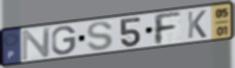5: (118, 16, 143, 49)
F: (151, 11, 183, 46)
G: (51, 25, 78, 56)
K: (186, 9, 208, 40)
N: (21, 26, 53, 62)
S: (86, 21, 115, 52)
